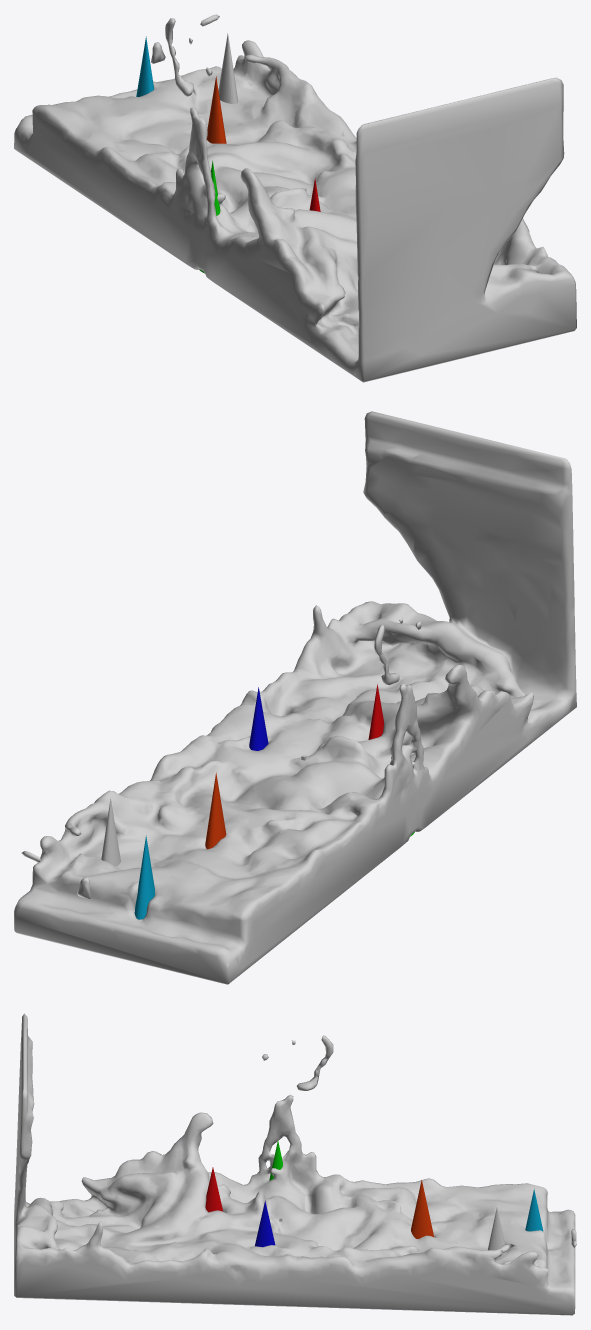
3 views of the same model, one above another, from view 1: azimuth 30°, elevation 25°; view 2: azimuth 150°, elevation 25°; view 3: azimuth 270°, elevation 25° (orthographic). The views are drawn at different scales.
Visible parts, largest first — view 1: Liquid_Domain, 円錐, 円錐.004, 円錐.005; view 2: Liquid_Domain, 円錐.005, 円錐.004, 円錐; view 3: Liquid_Domain, 円錐.004, 円錐.002, 円錐.001, 円錐, 円錐.005.
Boxes of the visible parts, x1,y1,x2,y2 form: Liquid_Domain: (14,14,576,382); 円錐: (218,33,238,104); 円錐.004: (206,76,226,143); 円錐.005: (136,36,153,96); Liquid_Domain: (14,411,576,984); 円錐.005: (134,835,154,919); 円錐.004: (205,772,226,849); 円錐: (101,798,120,866); Liquid_Domain: (14,1013,576,1315); 円錐.004: (411,1180,433,1238); 円錐.002: (255,1200,275,1247); 円錐.001: (205,1167,223,1212); 円錐: (488,1207,506,1260); 円錐.005: (525,1189,543,1231).
Size of the model in its own units: 129 by 157 by 362.
